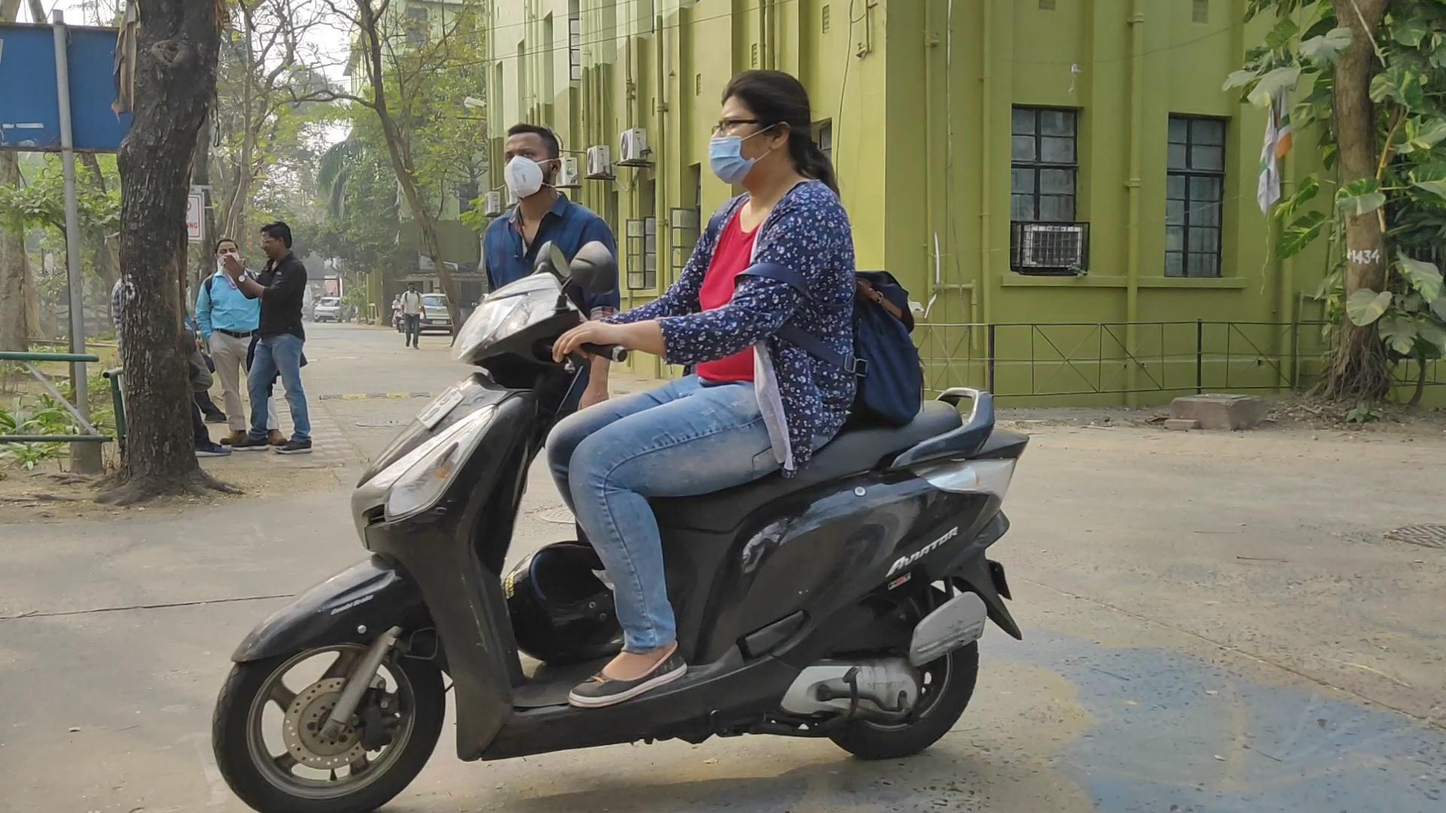bike: (213, 75, 1031, 813)
car: (413, 291, 455, 336), (313, 296, 346, 324)
